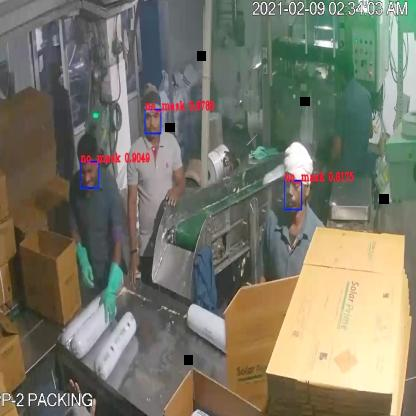glove: (96, 257, 132, 330), (62, 231, 101, 297)
no_glove: (118, 157, 147, 301), (161, 161, 190, 212)
